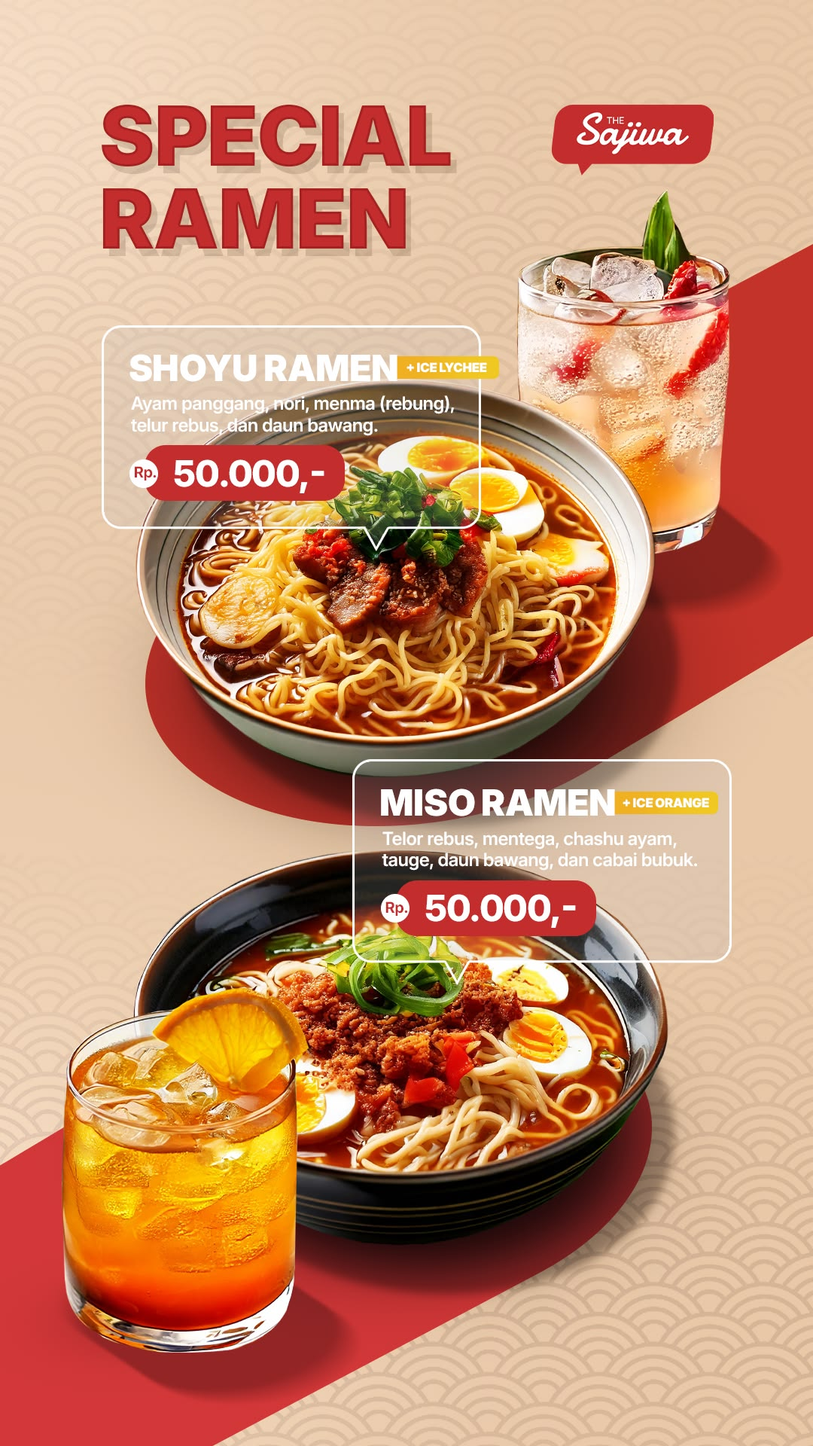Headline: (93, 90, 466, 260)
Price: (381, 875, 596, 941), (124, 442, 347, 505)
Product: (97, 264, 745, 1379)
